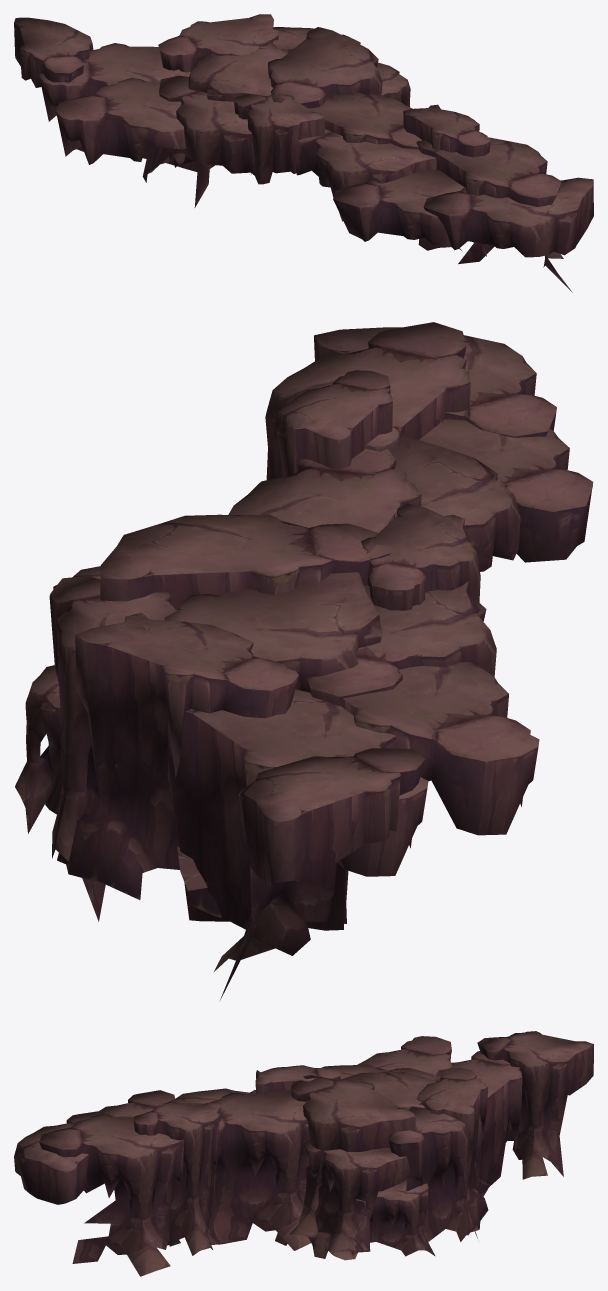
Rendered from yanshi1_1.fbx.
3 renders of one model, top to bottom at view 1: azimuth 30°, elevation 25°; view 2: azimuth 150°, elevation 25°; view 3: azimuth 270°, elevation 25°, orthographic. The views are drawn at different scales.
Parts seen in each view (by area): view 1: yanshi1_1; view 2: yanshi1_1; view 3: yanshi1_1.
Part boxes in pixels (box(x1,y1,x2,y2)): yanshi1_1: box(14, 14, 593, 292); yanshi1_1: box(15, 322, 593, 1001); yanshi1_1: box(14, 1031, 593, 1276).
Bounding box in the file's own units: 4017 × 1853 × 6717.
